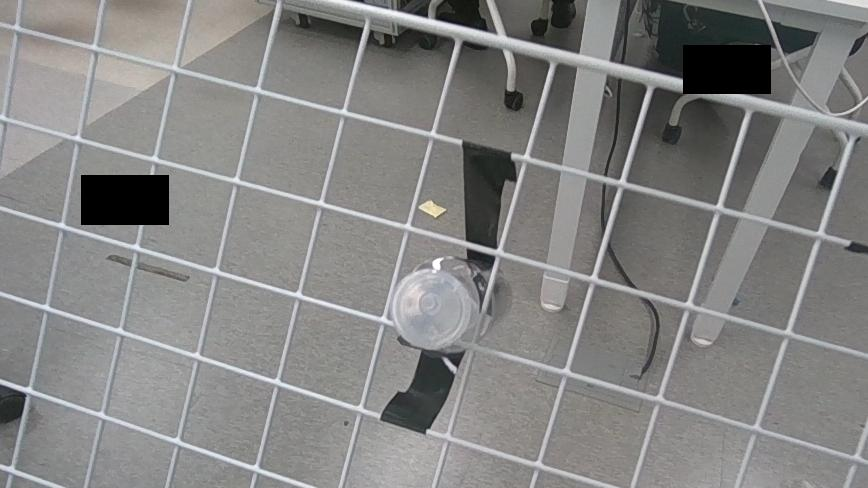Cap: (387, 270, 472, 351)
